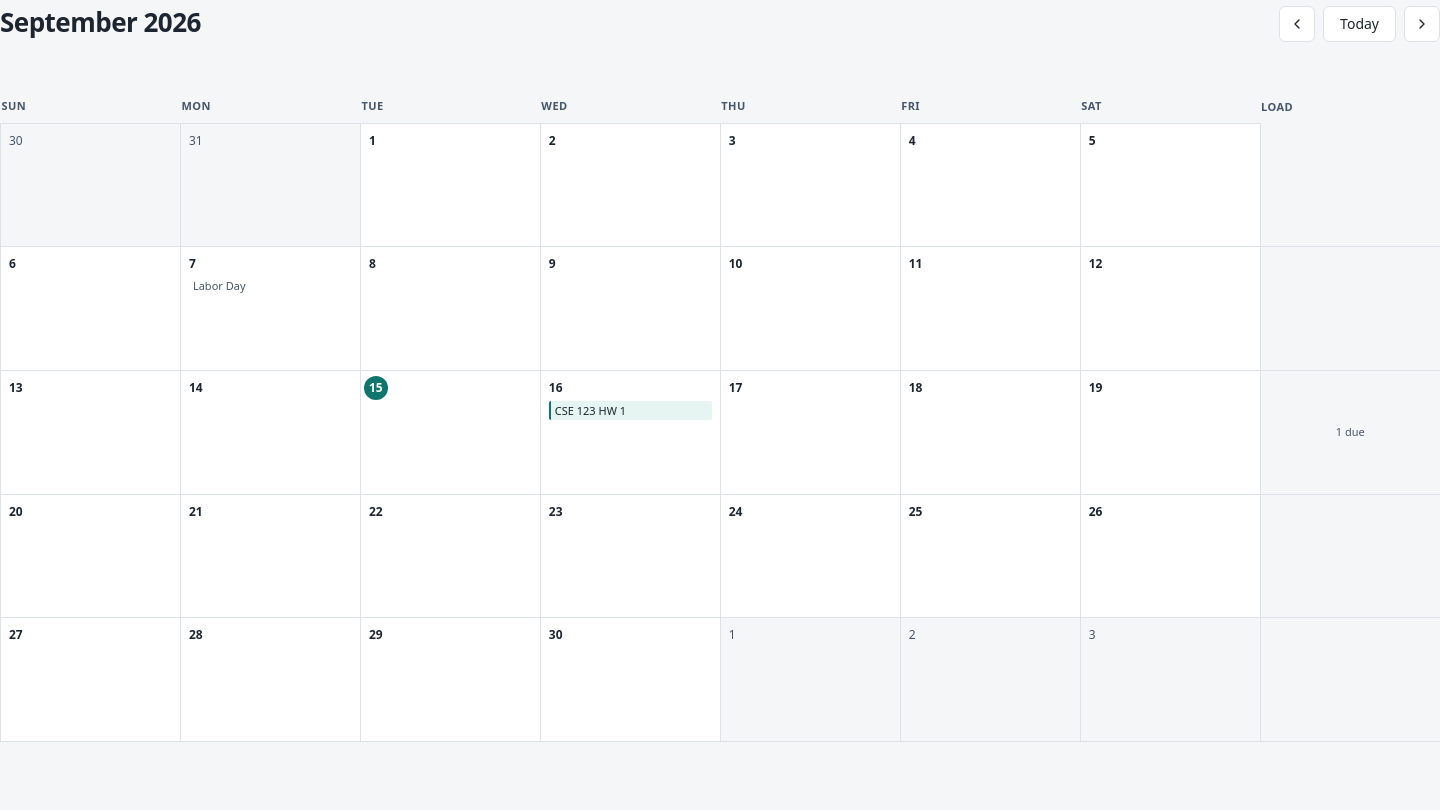
AC-41.3 clicking an item opens its day
Click the button "CSE 123 HW 1" at (630, 411), box [549,401,712,420]
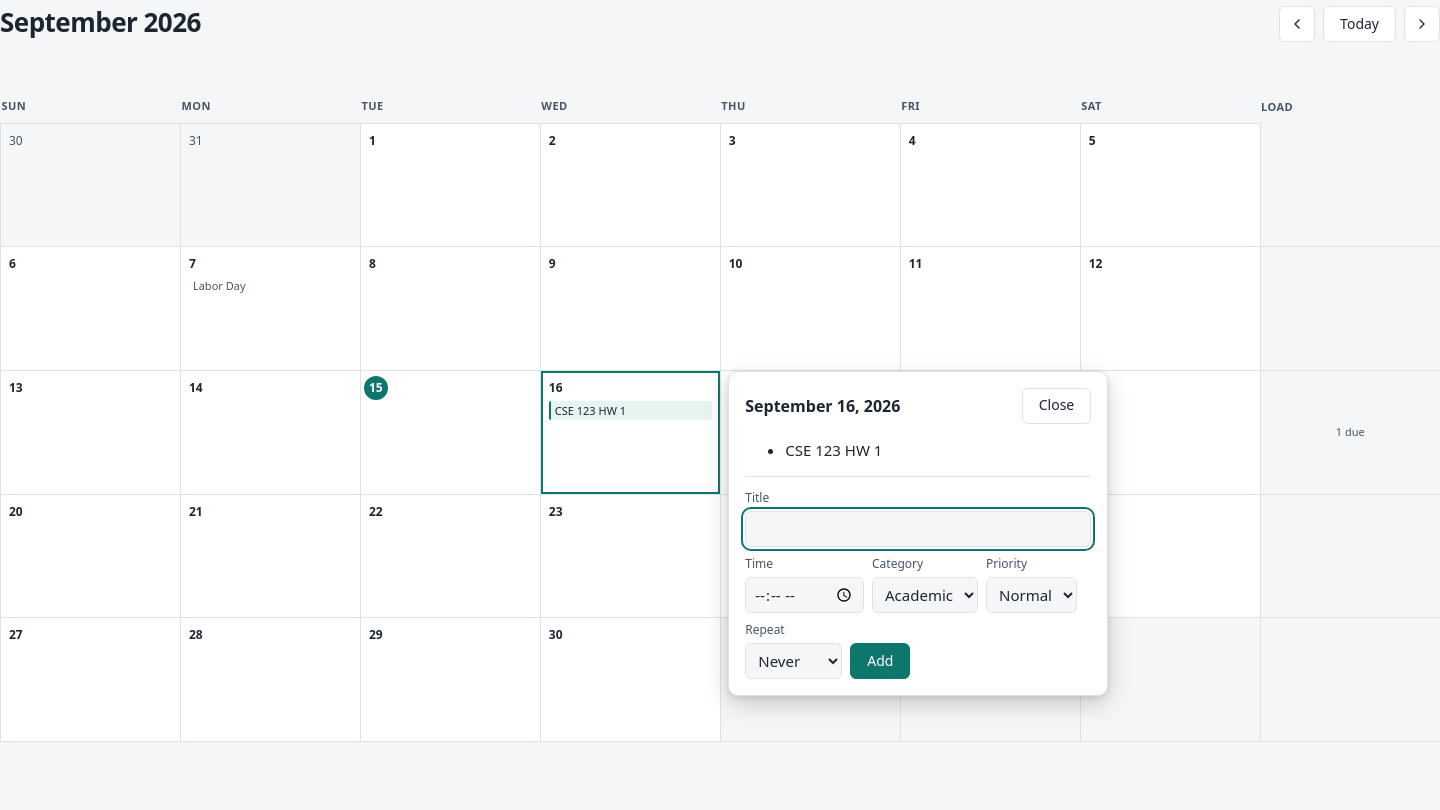
Expected: the list item "CSE 123 HW 1" is shown, [785,440,882,460]
